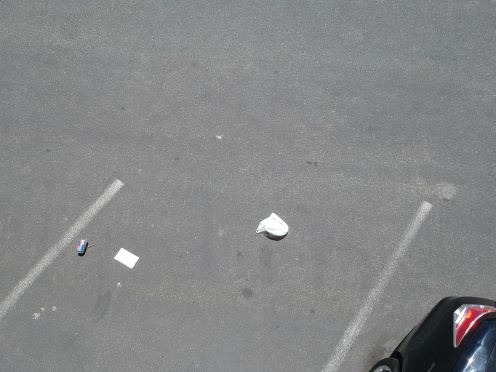can: (75, 237, 89, 256)
plastic bag: (251, 207, 297, 242)
